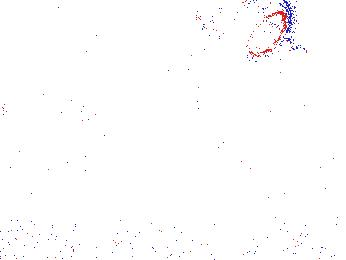moon jellyfish: (94, 1, 187, 64), (198, 1, 268, 70), (232, 1, 292, 60), (54, 101, 132, 145)
